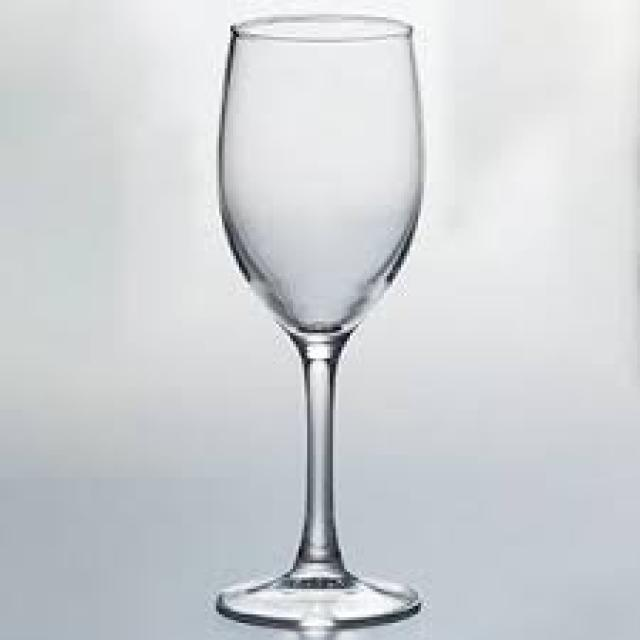glass: (210, 11, 421, 626)
